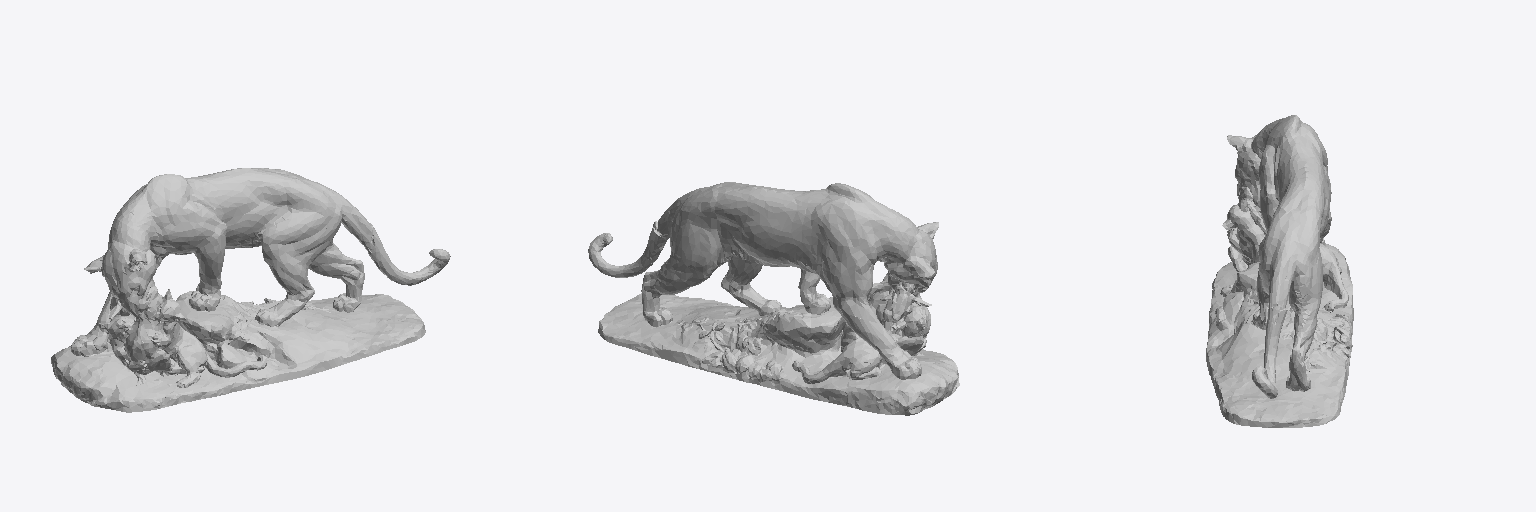
The model's file is tiger.obj.
3 renders of one model, left to right at view 1: azimuth 30°, elevation 25°; view 2: azimuth 150°, elevation 25°; view 3: azimuth 270°, elevation 25°, orthographic.
Visible parts, largest first — view 1: P_P.001; view 2: P_P.001; view 3: P_P.001.
Part boxes in pixels (x1,y1,x2,y2): P_P.001: (51,168,450,412); P_P.001: (588,182,959,415); P_P.001: (1206,115,1353,427).
Bounding box in the file's own units: 1.73 × 0.8624 × 0.6005.